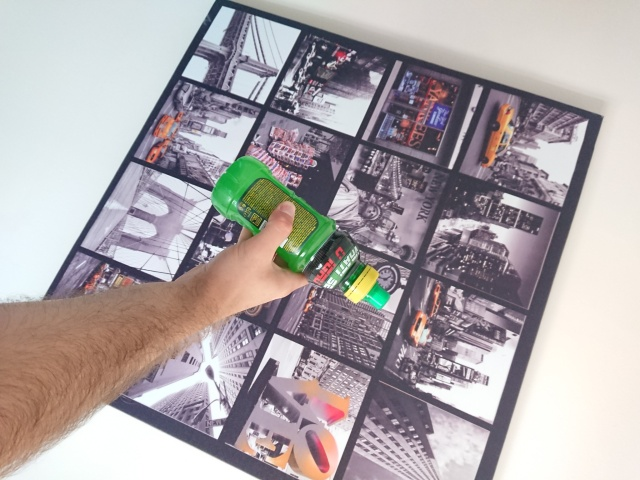Vindi Iso Sport Lemon-Grapefruit 500mL: (208, 153, 393, 312)
